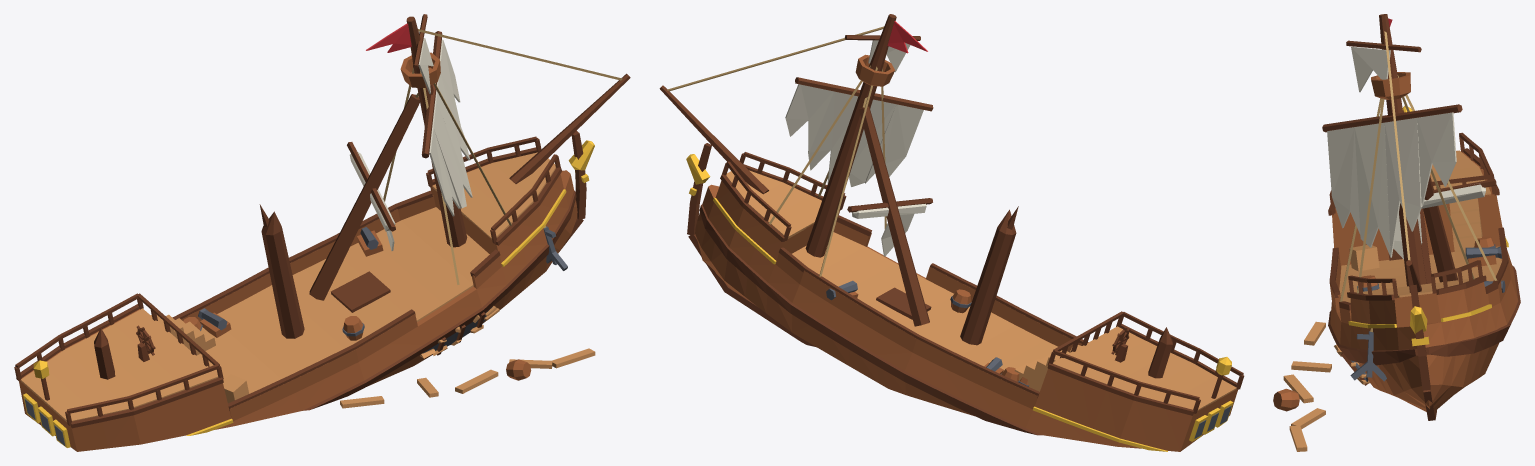
File: Plains_2_PirateShip.fbx
The picture shows the model from 3 angles, left to right: view 1: azimuth 30°, elevation 25°; view 2: azimuth 150°, elevation 25°; view 3: azimuth 270°, elevation 25°; orthographic projection. The views are drawn at different scales.
Parts seen in each view (by area): view 1: Plains_2_PirateShip__Common_WoodLight, Plains_2_PirateShip__Common_WoodDark, Plains_2_PirateShip__Common_Wood, Plains_2_PirateShip__Common_Cloth, Plains_2_PirateShip__Common_Gold, Plains_2_PirateShip__Common_Iron, Plains_2_PirateShip__Common_Rope, Plains_2_PirateShip__Hub_Banner; view 2: Plains_2_PirateShip__Common_Wood, Plains_2_PirateShip__Common_WoodDark, Plains_2_PirateShip__Common_WoodLight, Plains_2_PirateShip__Common_Cloth, Plains_2_PirateShip__Common_Gold, Plains_2_PirateShip__Common_Rope, Plains_2_PirateShip__Common_Iron, Plains_2_PirateShip__Hub_Banner; view 3: Plains_2_PirateShip__Common_Wood, Plains_2_PirateShip__Common_Cloth, Plains_2_PirateShip__Common_WoodDark, Plains_2_PirateShip__Common_WoodLight, Plains_2_PirateShip__Common_Rope, Plains_2_PirateShip__Common_Iron, Plains_2_PirateShip__Common_Gold.
Boxes of the visible parts, box(x1,y1,x2,y2) form: Plains_2_PirateShip__Common_WoodLight: box(21, 152, 595, 421); Plains_2_PirateShip__Common_WoodDark: box(14, 14, 630, 428); Plains_2_PirateShip__Common_Wood: box(19, 52, 577, 451); Plains_2_PirateShip__Common_Cloth: box(349, 38, 472, 250); Plains_2_PirateShip__Common_Gold: box(23, 140, 594, 447); Plains_2_PirateShip__Common_Iron: box(24, 226, 567, 445); Plains_2_PirateShip__Common_Rope: box(383, 29, 622, 284); Plains_2_PirateShip__Hub_Banner: box(366, 23, 411, 52); Plains_2_PirateShip__Common_Wood: box(695, 54, 1237, 451); Plains_2_PirateShip__Common_WoodDark: box(659, 14, 1244, 435); Plains_2_PirateShip__Common_WoodLight: box(726, 170, 1236, 410); Plains_2_PirateShip__Common_Cloth: box(785, 40, 926, 256); Plains_2_PirateShip__Common_Gold: box(686, 154, 1233, 451); Plains_2_PirateShip__Common_Rope: box(667, 26, 886, 276); Plains_2_PirateShip__Common_Iron: box(826, 280, 1231, 438); Plains_2_PirateShip__Hub_Banner: box(887, 21, 927, 53); Plains_2_PirateShip__Common_Wood: box(1273, 72, 1518, 411); Plains_2_PirateShip__Common_Cloth: box(1327, 46, 1485, 259); Plains_2_PirateShip__Common_WoodDark: box(1322, 14, 1520, 420); Plains_2_PirateShip__Common_WoodLight: box(1283, 150, 1501, 451); Plains_2_PirateShip__Common_Rope: box(1340, 31, 1497, 332); Plains_2_PirateShip__Common_Iron: box(1350, 244, 1505, 381); Plains_2_PirateShip__Common_Gold: box(1348, 106, 1508, 346).
Bounding box in the file's own units: 112 × 61.41 × 37.9.
